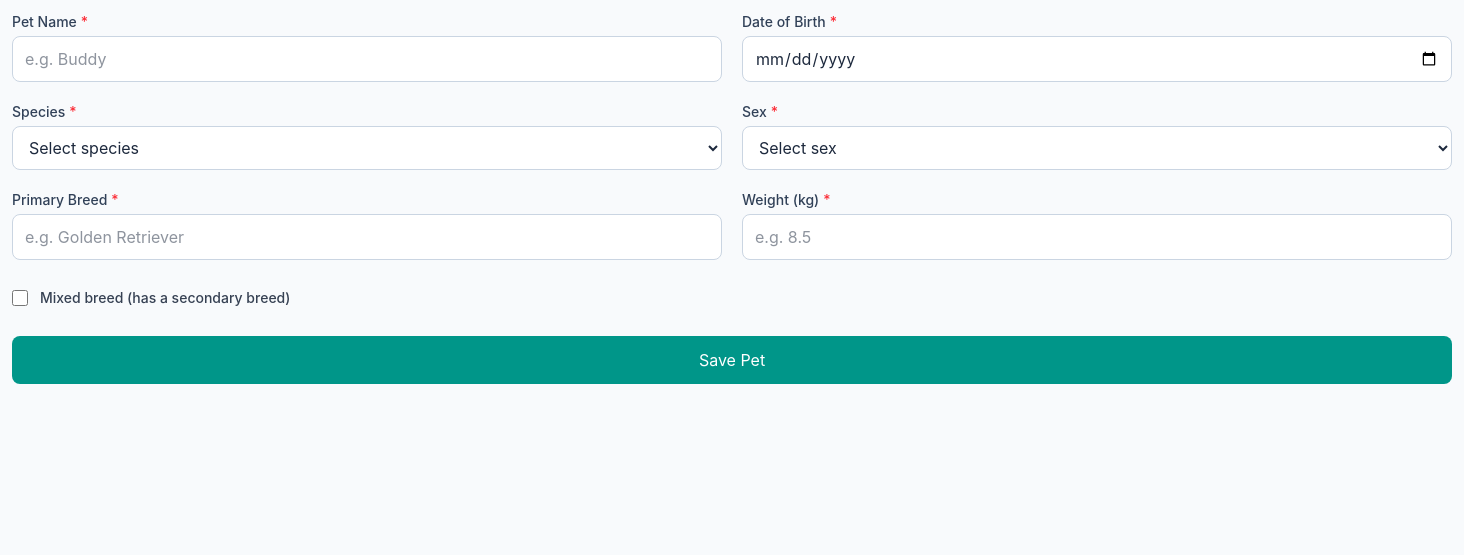
Scenario: PetForm › shows validation errors when submitted empty
What coordinates should you click on to do the following:
click the button "Save Pet"
I would click on:
 (732, 360)
Its box is left=12, top=336, right=1452, bottom=384.
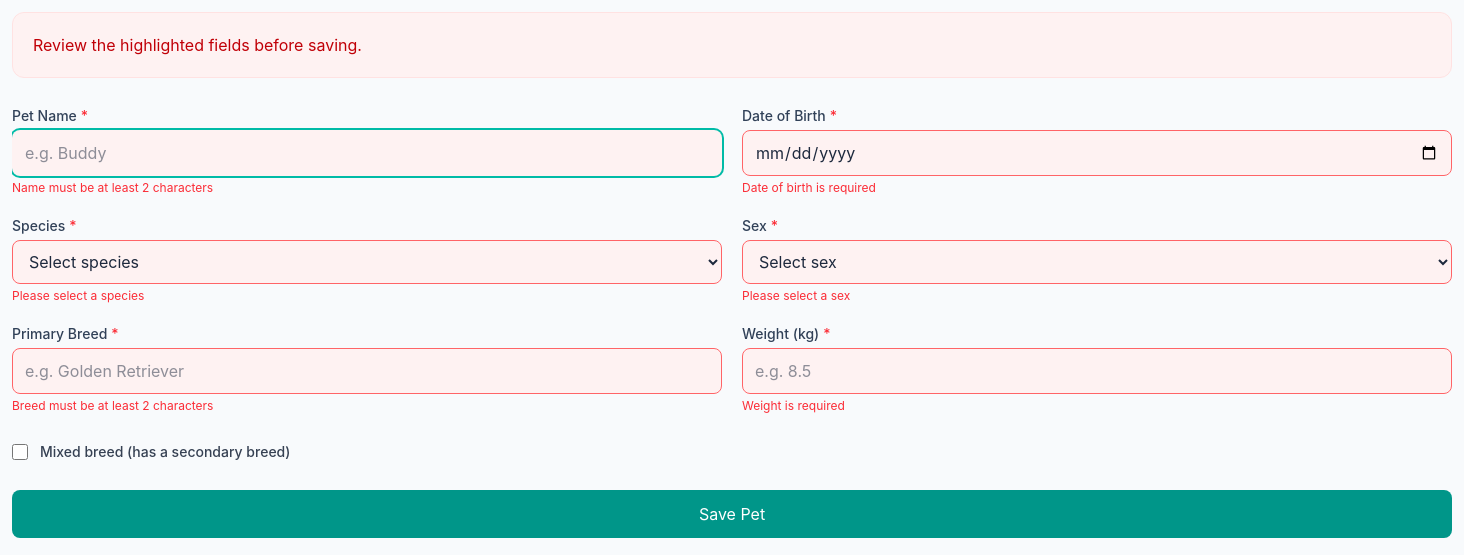
Result: the text "Name must be at least 2 characters" is shown at left=12, top=180, right=213, bottom=195
Result: the text "Date of birth is required" is shown at left=742, top=180, right=876, bottom=195
Result: the text "Please select a species" is shown at left=12, top=288, right=144, bottom=303
